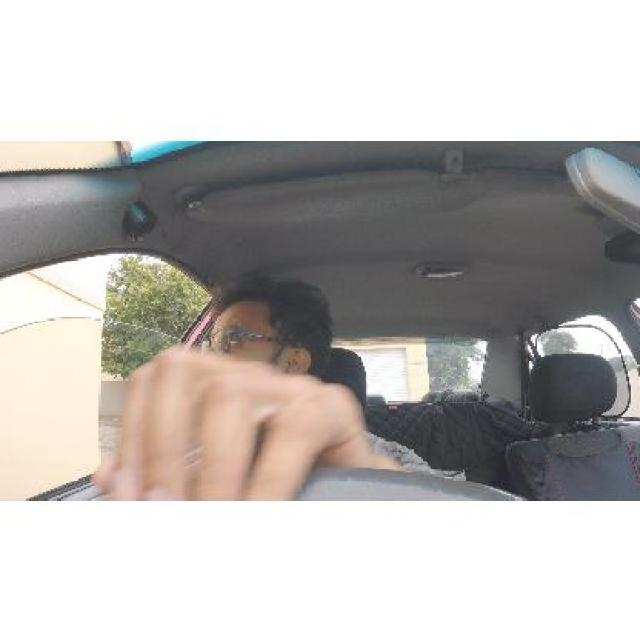LeftRight: (188, 274, 336, 378)
